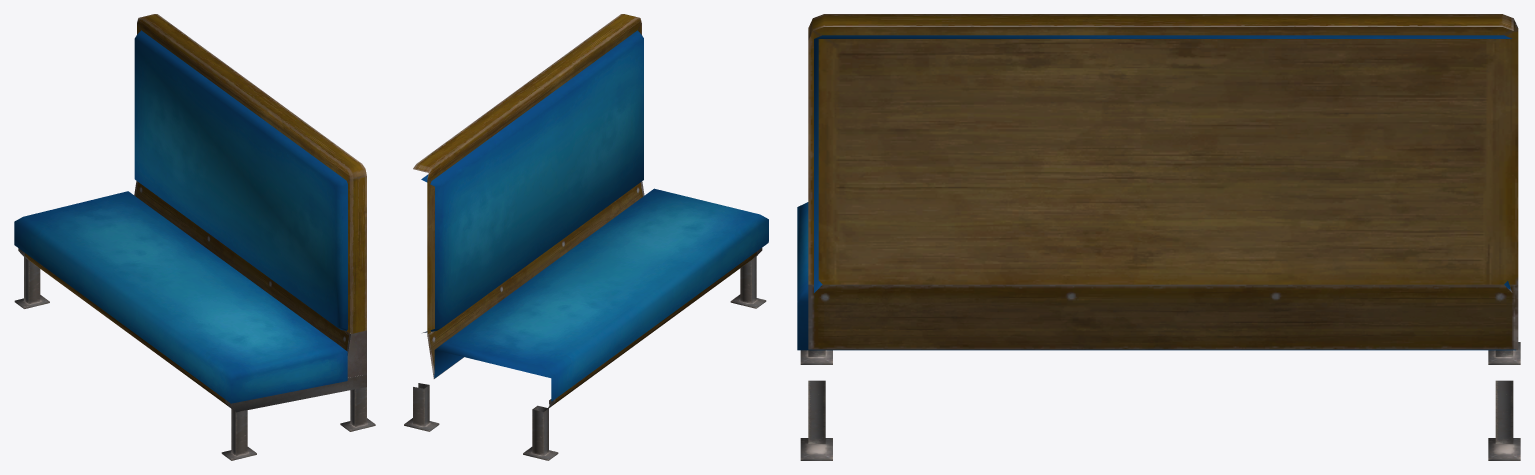
File: TrainChiar2.fbx
3 renders of one model, left to right at view 1: azimuth 30°, elevation 25°; view 2: azimuth 150°, elevation 25°; view 3: azimuth 270°, elevation 25°, orthographic. The views are drawn at different scales.
Parts seen in each view (by area): view 1: SM_a_006_LocomotiveChair_01b; view 2: SM_a_006_LocomotiveChair_01b; view 3: SM_a_006_LocomotiveChair_01b.
Part boxes in pixels (box(x1,y1,x2,y2)): SM_a_006_LocomotiveChair_01b: box(14, 14, 375, 460); SM_a_006_LocomotiveChair_01b: box(404, 14, 768, 460); SM_a_006_LocomotiveChair_01b: box(797, 14, 1520, 460).
Bounding box in the file's own units: 64.26 × 109 × 166.
1 material, 1 textured.
